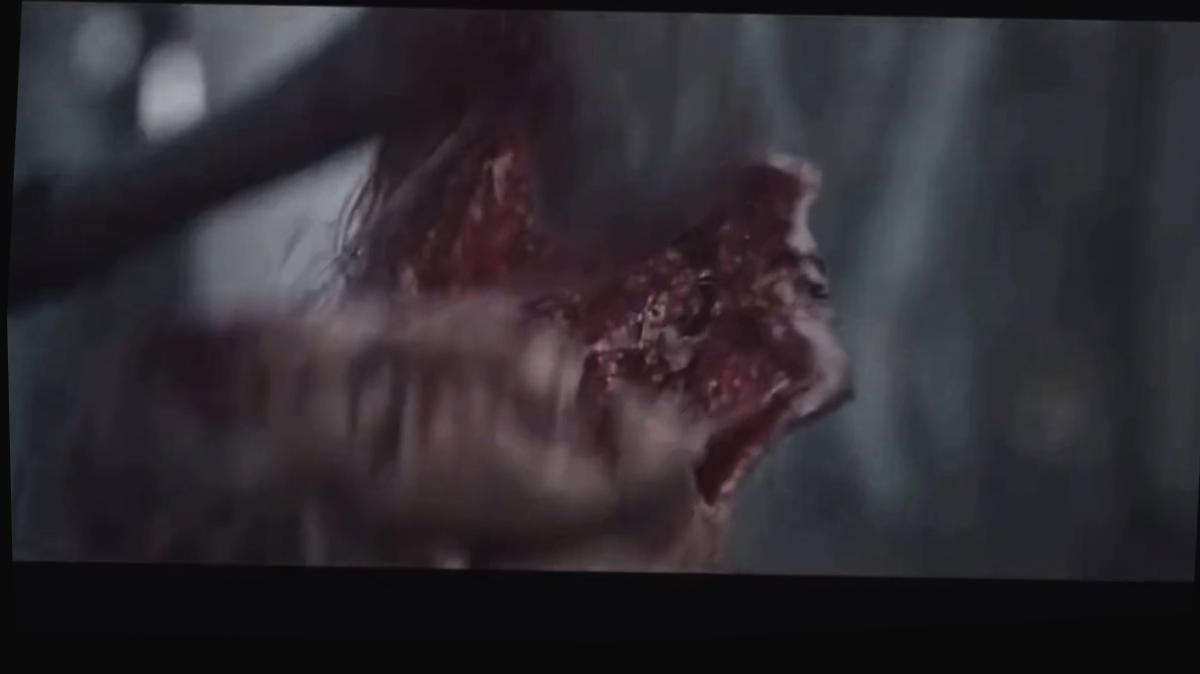Fire: (419, 110, 822, 512)
